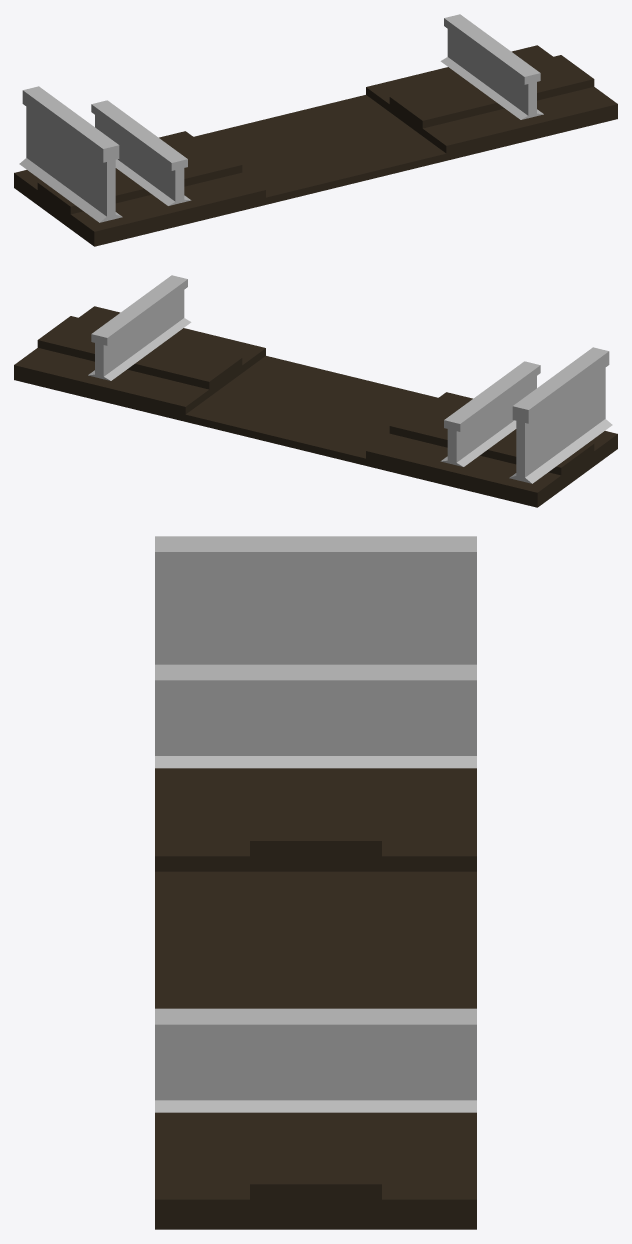
File: nyc_subway_rail_1_third_rail.obj
3 renders of one model, top to bottom at view 1: azimuth 30°, elevation 25°; view 2: azimuth 150°, elevation 25°; view 3: azimuth 270°, elevation 25°, orthographic. The views are drawn at different scales.
Visible parts, largest first — view 1: cube; view 2: cube; view 3: cube.
Boxes of the visible parts, box(x1,y1,x2,y2) form: cube: box(14, 14, 617, 246); cube: box(14, 275, 617, 507); cube: box(155, 536, 476, 1229).
Bounding box in the file's own units: 2.23 × 0.3891 × 0.5938.
Materials: 2 (2 with a texture image).
